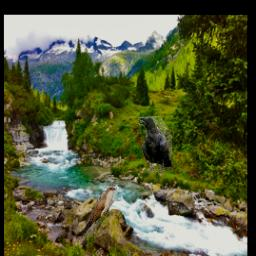Crow: (138, 116, 172, 173)
Cuckoo: (75, 187, 118, 240)
